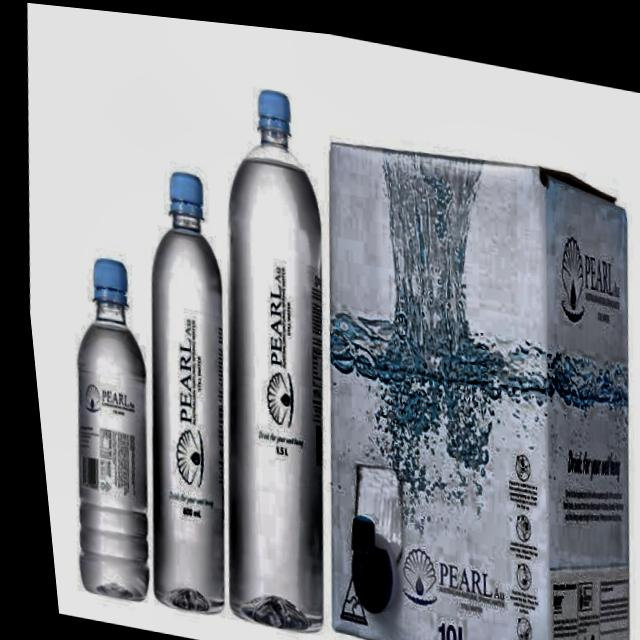Bottles: (174, 57, 363, 640), (104, 152, 253, 625), (35, 235, 171, 613)
